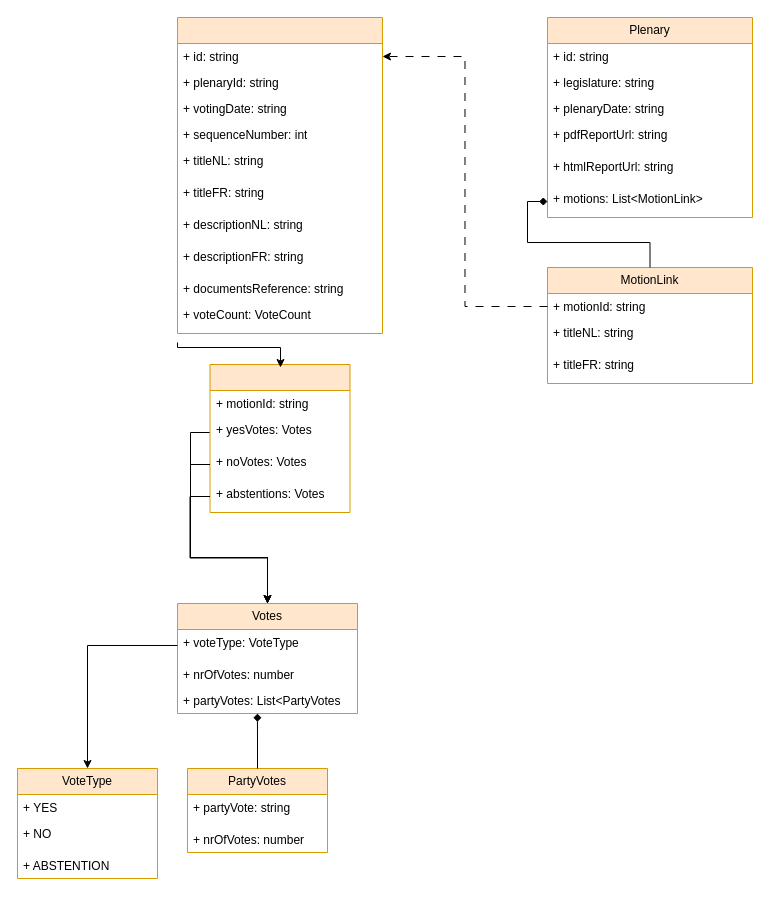
Some shapes in this 770 by 899 pixel diagram are drawn without their labels. Each missing label, with the box of its shape:
Motion: (176, 16, 382, 334)
VoteCount: (209, 364, 350, 512)
